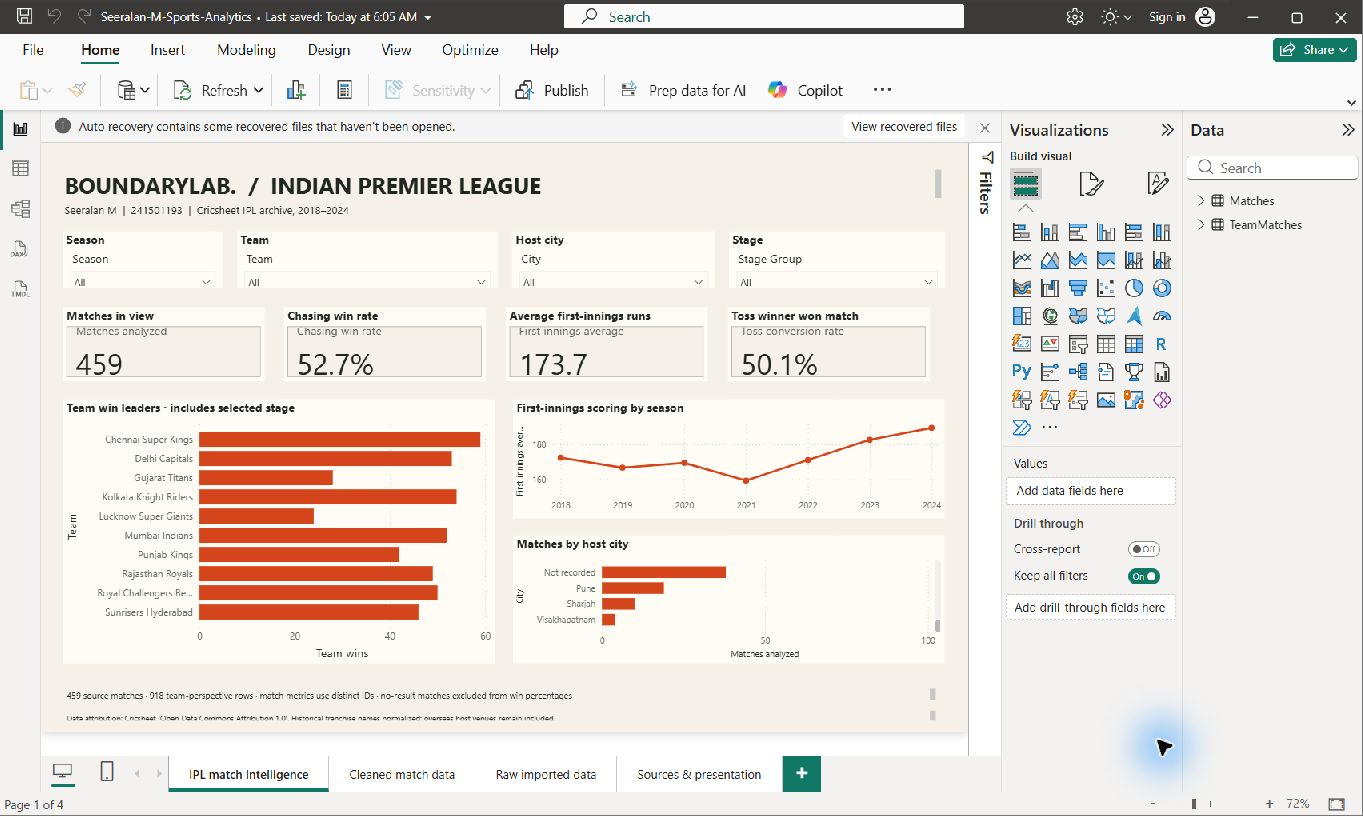

The page's visual inventory and layout, read from the dashboard file:
{"tool":"powerbi","page":{"name":"IPL match intelligence","canvas":[1280,800],"ordinal":0},"visuals":[{"type":"textbox","box":[28,18,1220,50],"z":0},{"type":"textbox","box":[28,64,1050,32],"z":1},{"type":"slicer","title":"Season","fields":{"Values":["TeamMatches.Season"]},"box":[30,108,220,78],"z":2},{"type":"slicer","title":"Team","fields":{"Values":["TeamMatches.Team"]},"box":[270,108,360,78],"z":3},{"type":"slicer","title":"Host city","fields":{"Values":["TeamMatches.City"]},"box":[650,108,280,78],"z":4},{"type":"slicer","title":"Stage","fields":{"Values":["TeamMatches.Stage Group"]},"box":[950,108,298,78],"z":5},{"type":"cardVisual","title":"Matches in view","fields":{"Data":["TeamMatches.Matches analyzed"]},"box":[30,212,278,102],"z":6},{"type":"cardVisual","title":"Chasing win rate","fields":{"Data":["TeamMatches.Chasing win rate"]},"box":[336,212,278,102],"z":7},{"type":"cardVisual","title":"Average first-innings runs","fields":{"Data":["TeamMatches.First innings average"]},"box":[642,212,278,102],"z":8},{"type":"cardVisual","title":"Toss winner won match","fields":{"Data":["TeamMatches.Toss conversion rate"]},"box":[948,212,278,102],"z":9},{"type":"barChart","title":"Team win leaders · includes selected stage","fields":{"Category":["TeamMatches.Team"],"Y":["TeamMatches.Team wins"]},"box":[30,340,596,365],"z":10},{"type":"lineChart","title":"First-innings scoring by season","fields":{"Category":["TeamMatches.Season"],"Y":["TeamMatches.First innings average"]},"box":[652,340,596,165],"z":11},{"type":"barChart","title":"Matches by host city","fields":{"Category":["TeamMatches.City"],"Y":["TeamMatches.Matches analyzed"]},"box":[652,528,596,177],"z":12},{"type":"textbox","box":[30,734,1210,26],"z":13},{"type":"textbox","box":[30,765,1210,23],"z":14}]}

Visuals, with their boxes on the page's 1280x800 design canvas (x1, y1, x2, y2). These are canvas units, not pixel positions in the 1363x816 screenshot, which may show the page scaled, cropped or inside an application window:
textbox: 28 18 1248 68
textbox: 28 64 1078 96
"Season" slicer: 30 108 250 186
"Team" slicer: 270 108 630 186
"Host city" slicer: 650 108 930 186
"Stage" slicer: 950 108 1248 186
"Matches in view" cardVisual: 30 212 308 314
"Chasing win rate" cardVisual: 336 212 614 314
"Average first-innings runs" cardVisual: 642 212 920 314
"Toss winner won match" cardVisual: 948 212 1226 314
"Team win leaders · includes selected stage" barChart: 30 340 626 705
"First-innings scoring by season" lineChart: 652 340 1248 505
"Matches by host city" barChart: 652 528 1248 705
textbox: 30 734 1240 760
textbox: 30 765 1240 788
